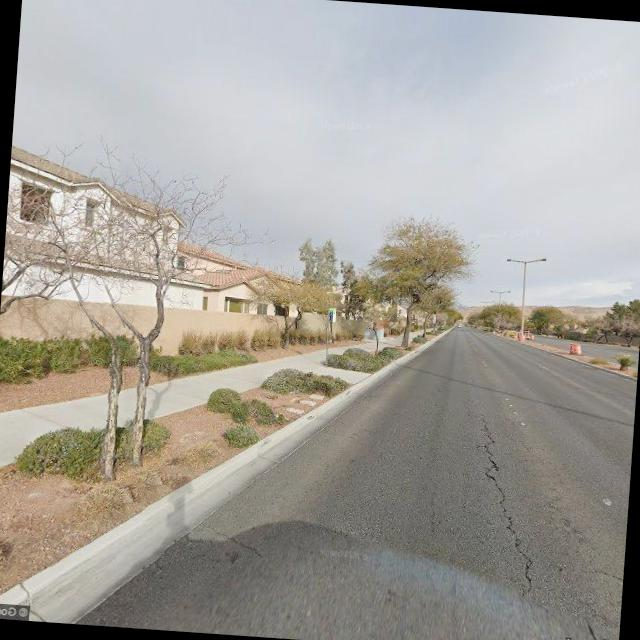pothole: (462, 411, 552, 594)
